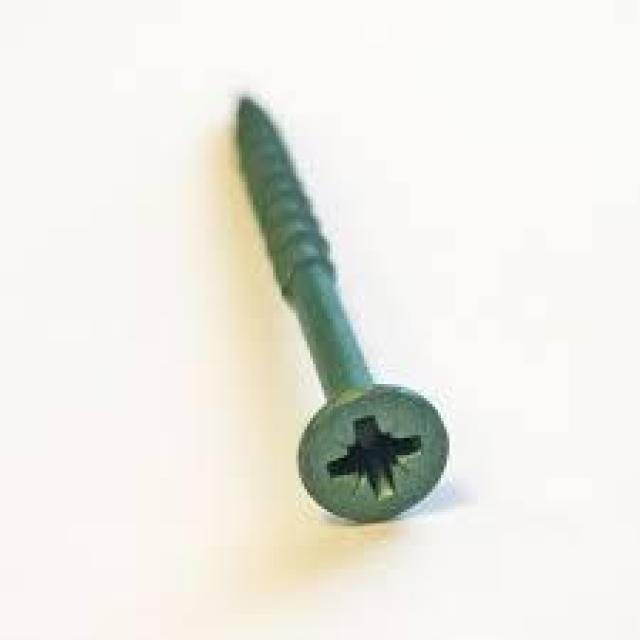Pozidriv: (294, 386, 448, 522)
